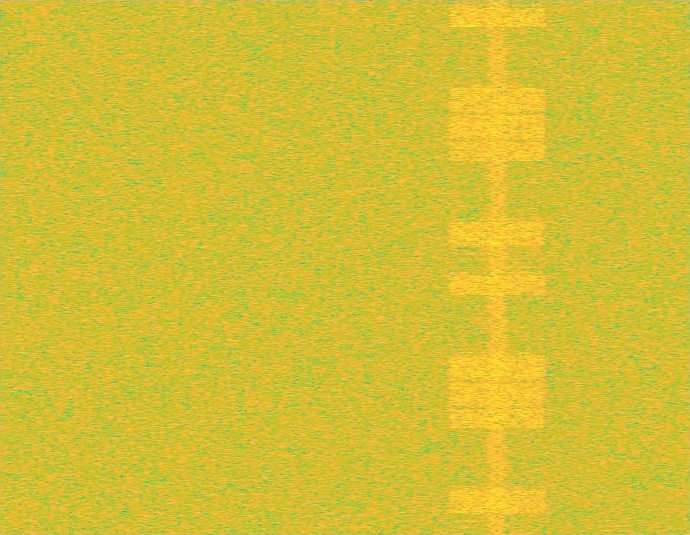DSSS: (486, 0, 509, 534)
LTE: (446, 0, 549, 534)
Radar: (462, 0, 475, 534)
